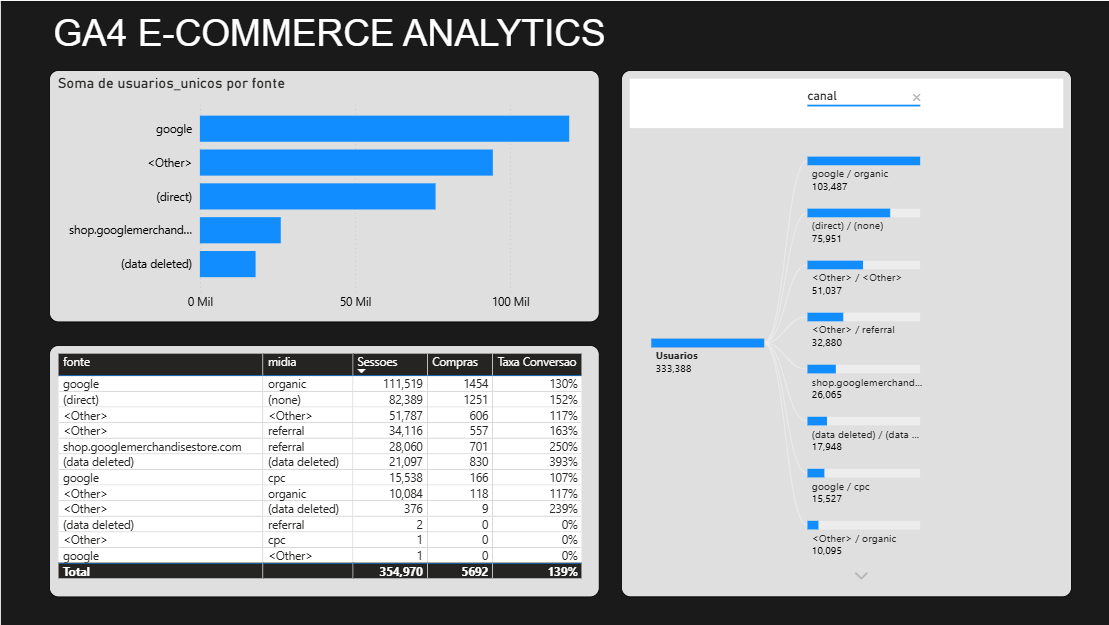

This screenshot's page, from the dashboard's own definition file:
{"tool":"powerbi","page":{"name":"Aquisição de Trafego","canvas":[1280,720],"ordinal":1},"visuals":[{"type":"barChart","fields":{"Category":["vw_trafego_por_canal.fonte"],"Y":["Sum(vw_trafego_por_canal.usuarios_unicos)"]},"box":[55.4,79.6,635.4,290.6],"z":0},{"type":"tableEx","fields":{"Values":["vw_trafego_por_canal.fonte","vw_trafego_por_canal.midia","Sum(vw_trafego_por_canal.sessoes)","Sum(vw_trafego_por_canal.compras)","_Medidas.Taxa Conversao"]},"box":[55.4,396.7,635.4,290.6],"z":1000},{"type":"decompositionTreeVisual","fields":{"ExplainBy":["vw_trafego_por_canal.canal"],"Analyze":["Sum(vw_trafego_por_canal.usuarios_unicos)"]},"box":[715,79.6,520.1,607.7],"z":2000},{"type":"textbox","box":[55.4,8.1,807.2,63.4],"z":3000}]}

Visuals, with their boxes in screenshot pixels (x1, y1, x2, y2), scaled from the page's 1280x720 canvas onto the 1109x625 screenshot:
barChart - vw_trafego_por_canal.fonte x Sum(vw_trafego_por_canal.usuarios_unicos): <region>48, 69, 599, 321</region>
tableEx - vw_trafego_por_canal.fonte x vw_trafego_por_canal.midia: <region>48, 344, 599, 597</region>
decompositionTreeVisual - vw_trafego_por_canal.canal x Sum(vw_trafego_por_canal.usuarios_unicos): <region>619, 69, 1070, 597</region>
textbox: <region>48, 7, 747, 62</region>
